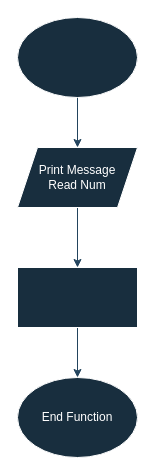
The diagram is 155 pixels wide and 475 high, and some of its shapes have lost their labels. The shapes that lost their labels are listed below. From the top down, each one's centre as x and y in pixels, then its label:
At point 77,57: "ReadInt(Message)".
At point 77,297: "Return Num".
